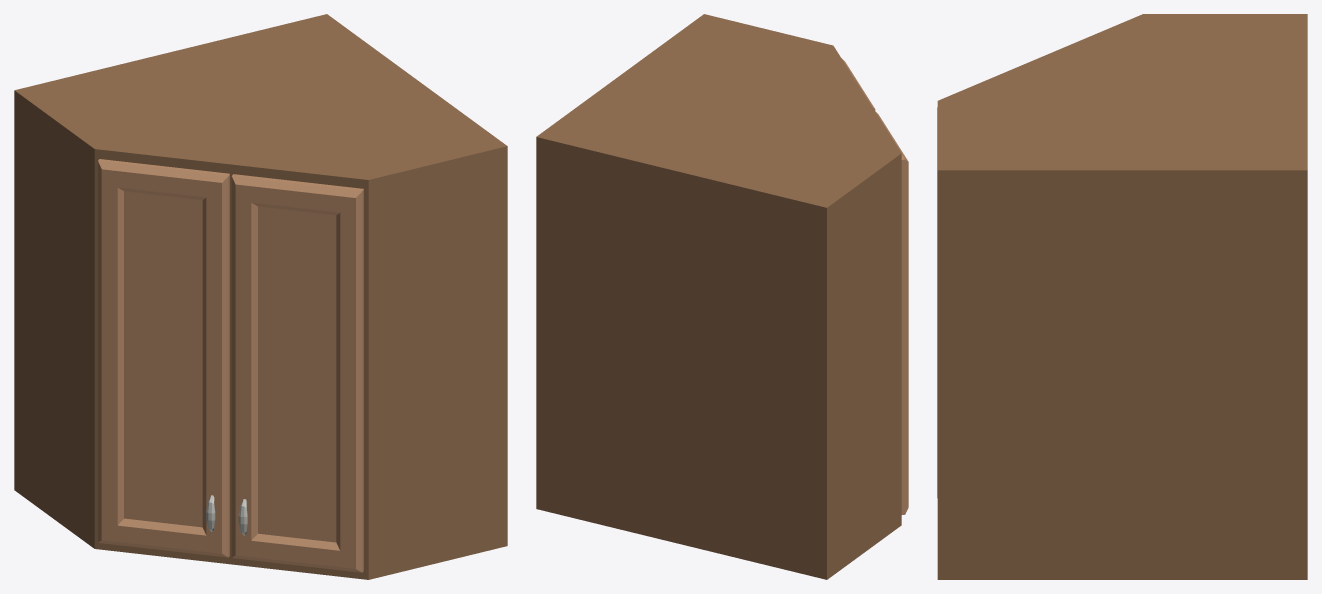
File: Kitchen_Cabinet_Wall_Corner.obj
3 views of the same model, side by side, from view 1: azimuth 30°, elevation 25°; view 2: azimuth 150°, elevation 25°; view 3: azimuth 270°, elevation 25° (orthographic). The views are drawn at different scales.
Parts seen in each view (by area): view 1: object1, object2, object3; view 2: object1, object3; view 3: object1.
Part boxes in pixels (left/top/right/bottom): object1: left=14, top=14, right=507, bottom=579; object2: left=231, top=174, right=363, bottom=572; object3: left=98, top=159, right=229, bottom=557; object1: left=536, top=14, right=901, bottom=579; object3: left=874, top=110, right=908, bottom=514; object1: left=937, top=14, right=1307, bottom=579.
Bounding box in the file's own units: 0.9006 × 1.1 × 0.9007.
